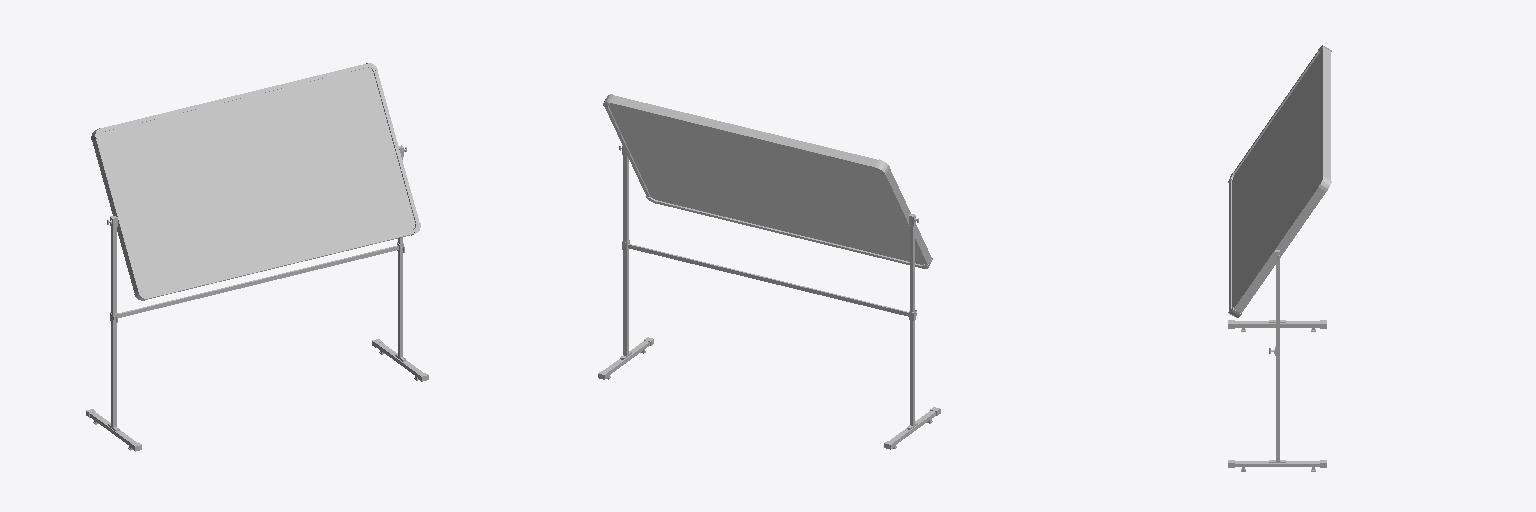
File: whiteboard.obj
The picture shows the model from 3 angles: view 1: azimuth 30°, elevation 25°; view 2: azimuth 150°, elevation 25°; view 3: azimuth 270°, elevation 25°; orthographic projection.
Parts seen in each view (by area): view 1: 02.1; view 2: 02.1; view 3: 02.1.
Boxes of the visible parts, <box> form: 02.1: <box>86,63,428,451</box>; 02.1: <box>598,94,940,449</box>; 02.1: <box>1228,45,1331,471</box>.
Bounding box in the file's own units: 1.64 × 1.51 × 0.4924.